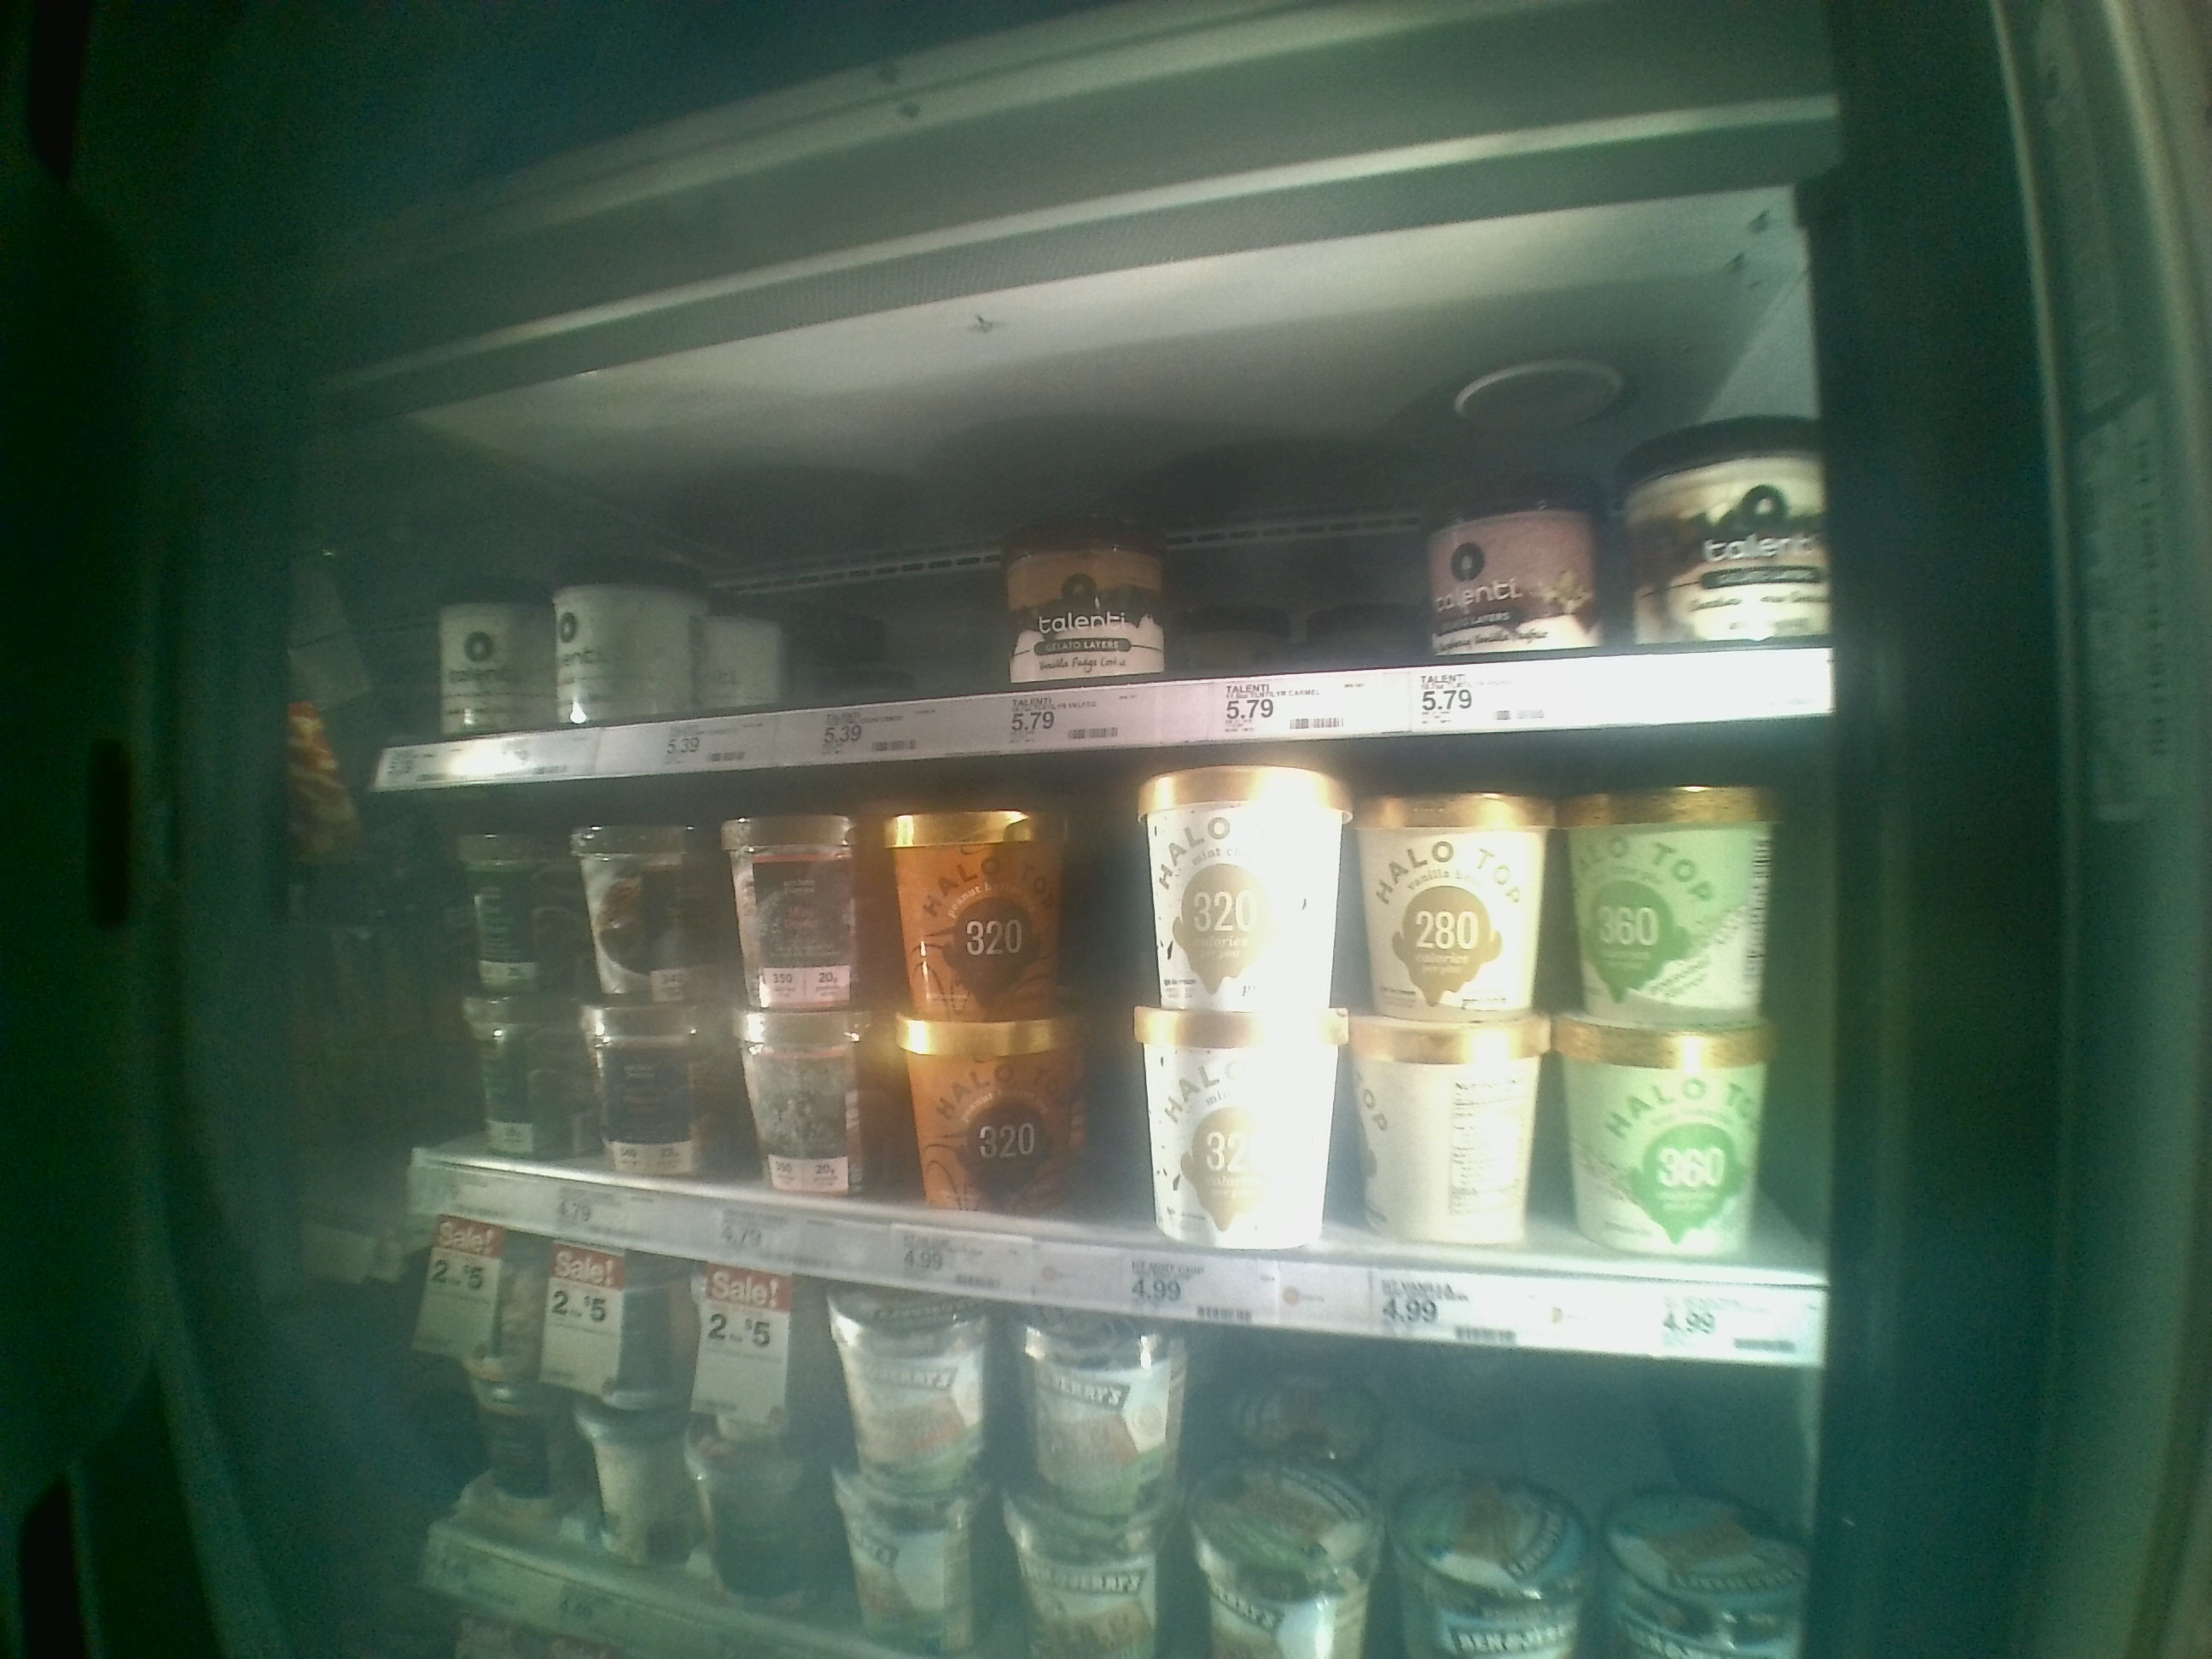shelf: (376, 728, 1838, 1382), (376, 368, 1834, 784)
